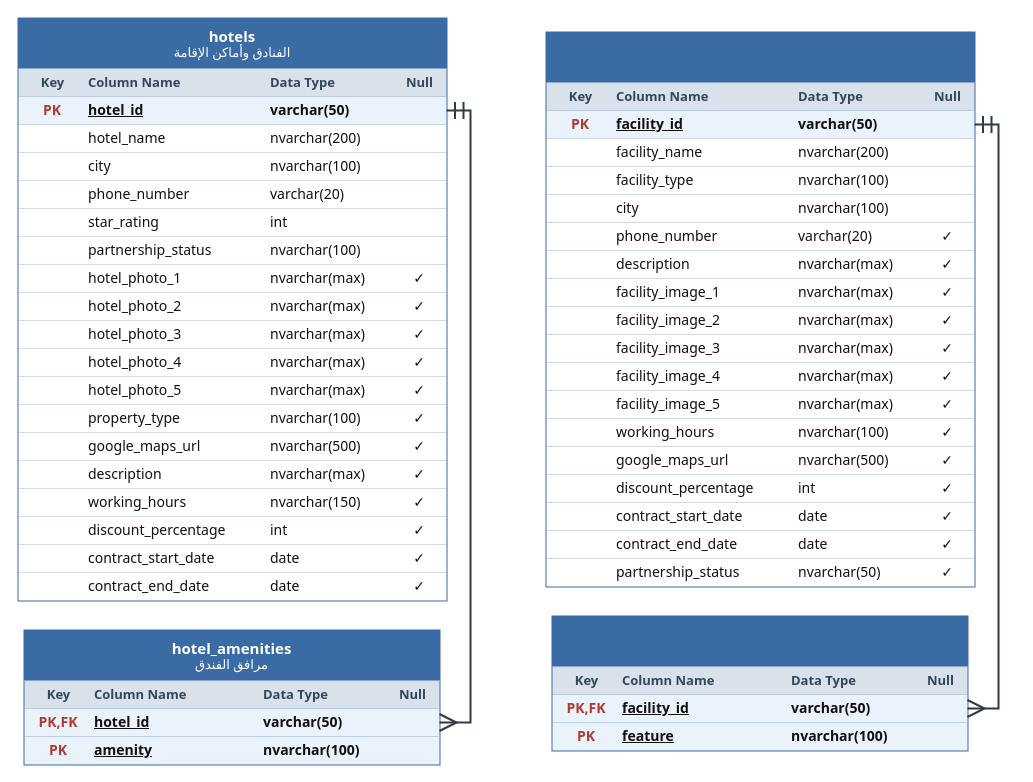
Image size: 1033x782. Some labels were removed from this diagram. Each missing label, with the box of its shape:
restaurant_features ميزات المطعم: (551, 615, 968, 751)
restaurants_cafes المطاعم والمقاهي: (545, 31, 975, 587)
